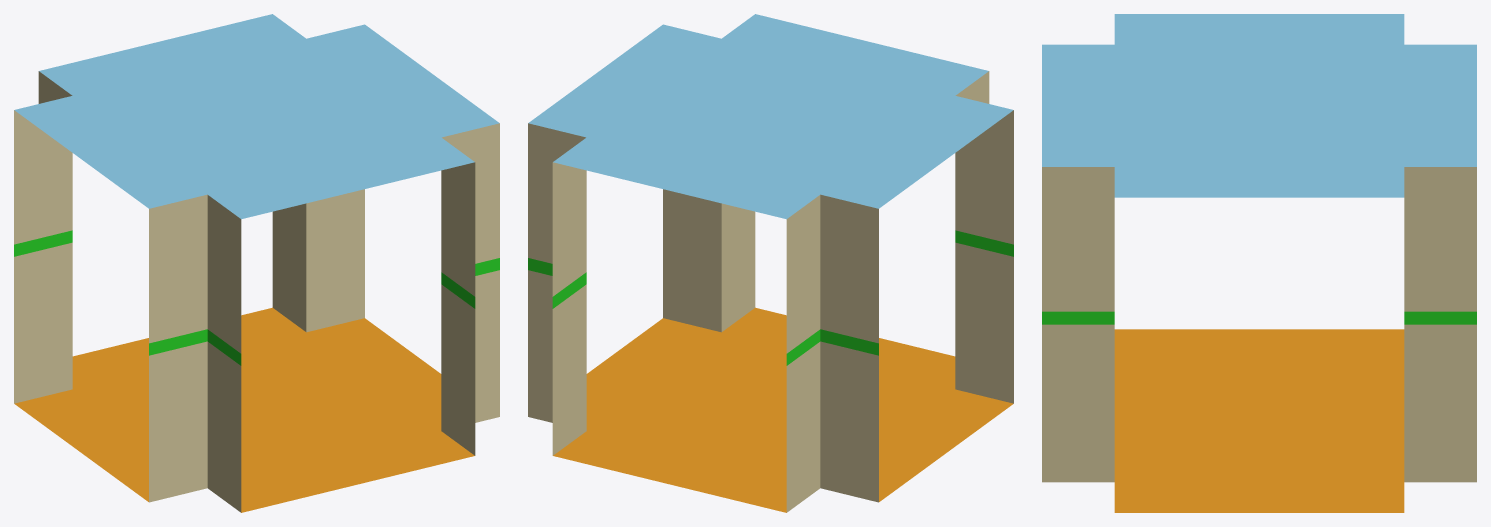
The picture shows the model from 3 angles, left to right: view 1: azimuth 30°, elevation 25°; view 2: azimuth 150°, elevation 25°; view 3: azimuth 270°, elevation 25°; orthographic projection. The views are drawn at different scales.
Parts seen in each view (by area): view 1: cross; view 2: cross; view 3: cross.
Boxes of the visible parts, bbox=[...] form: cross: bbox=[14, 14, 499, 512]; cross: bbox=[528, 14, 1013, 512]; cross: bbox=[1042, 14, 1476, 512].
Size of the model in its own units: 300 by 240 by 300.
